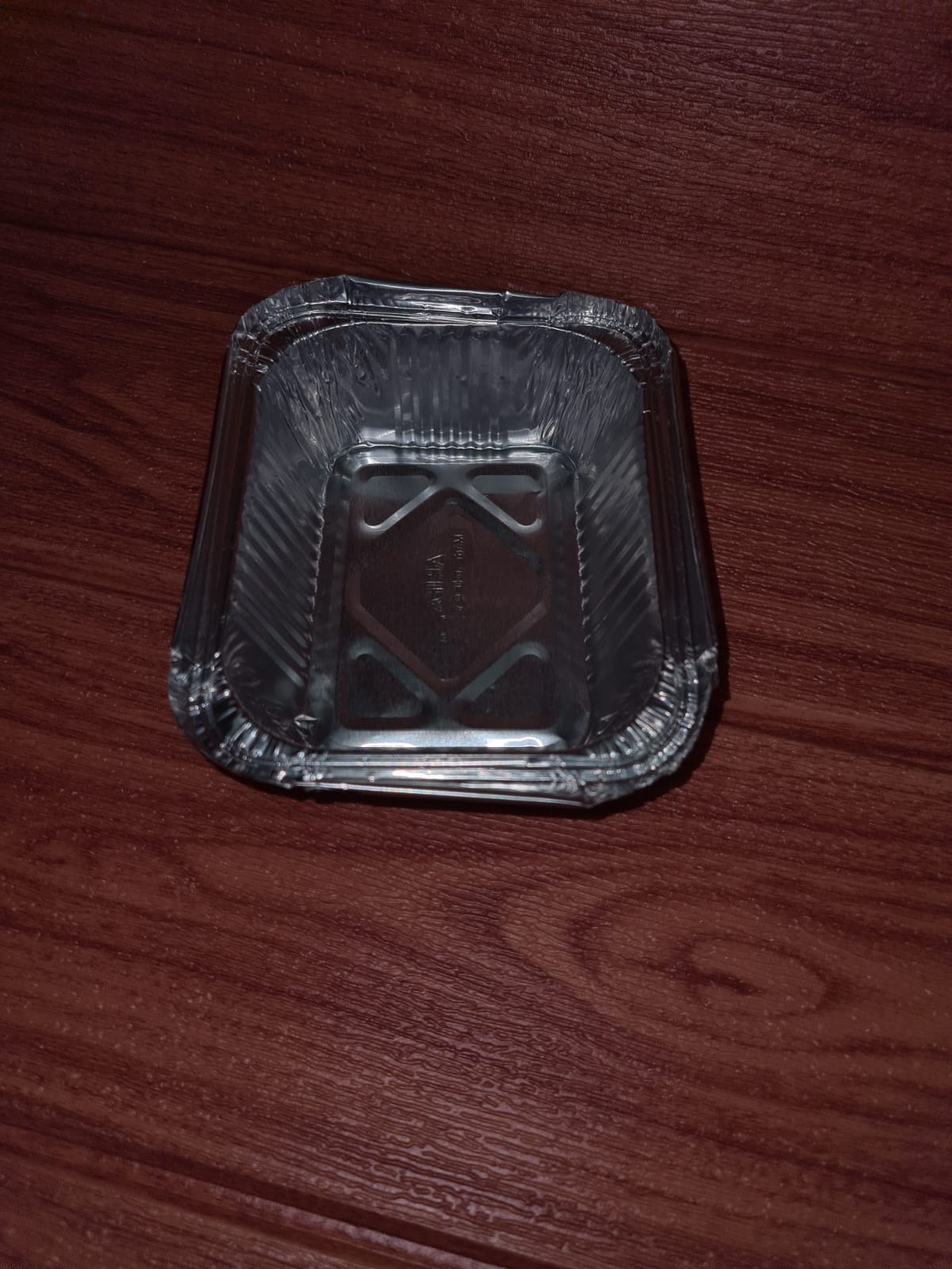Metal: (159, 265, 743, 820)
